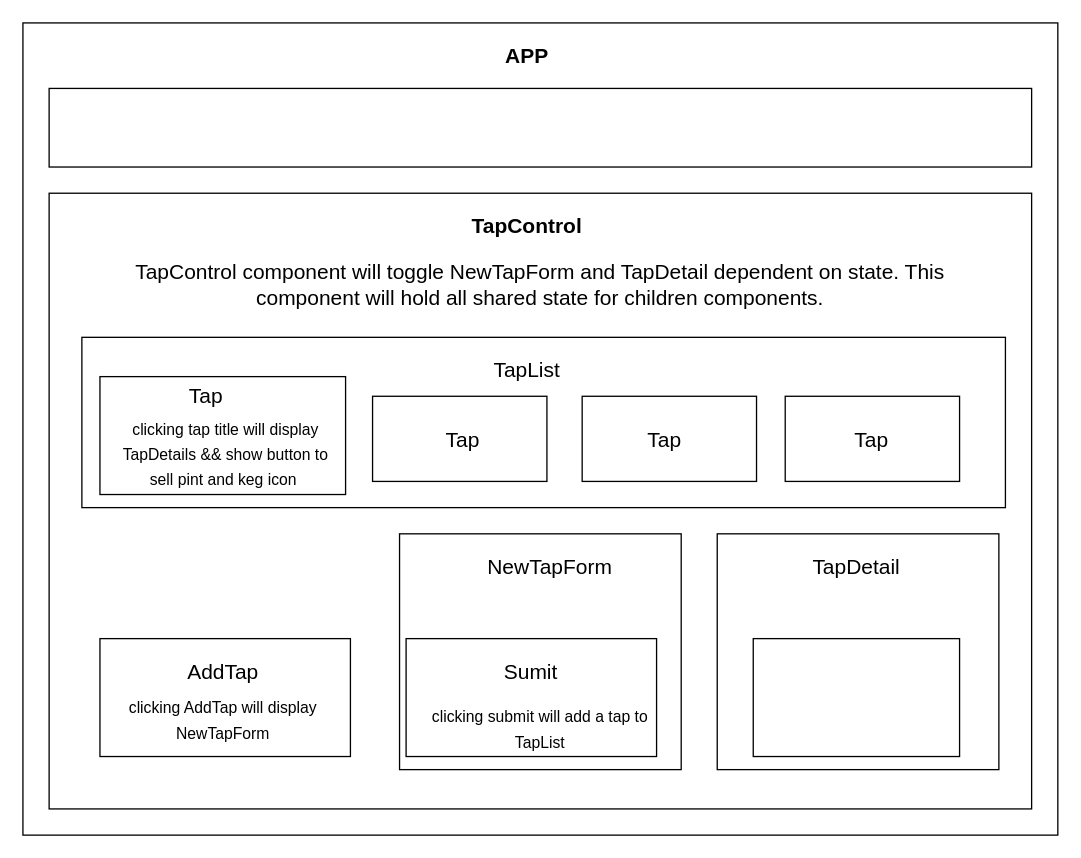
The diagram is 1081 pixels wide and 858 high, and some of its shapes have lost their labels. The shapes that lost their labels are listed below. From the top down, each one's centre as x and y in pixels, then its label:
At (540,127): "Header".
At (856,697): "details will appear here when tap title is clicked".
